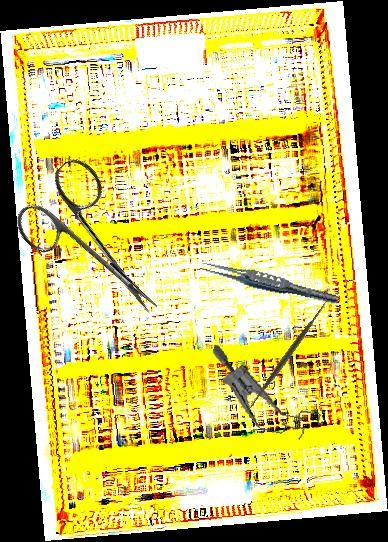Iris Scissors: (4, 152, 192, 342)
Spatula Surgical: (239, 294, 336, 419)
Speculum: (196, 343, 336, 446)
Tissue Forceps: (197, 257, 341, 308)
